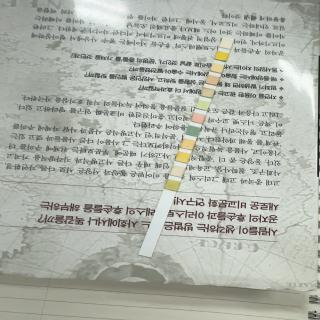mark: (166, 180, 180, 190), (181, 139, 195, 149), (187, 126, 201, 136), (177, 152, 190, 162), (197, 100, 210, 110), (172, 166, 184, 176), (192, 113, 204, 123), (206, 74, 218, 84), (216, 51, 228, 60), (202, 88, 214, 96), (221, 40, 232, 48), (212, 64, 222, 72)
